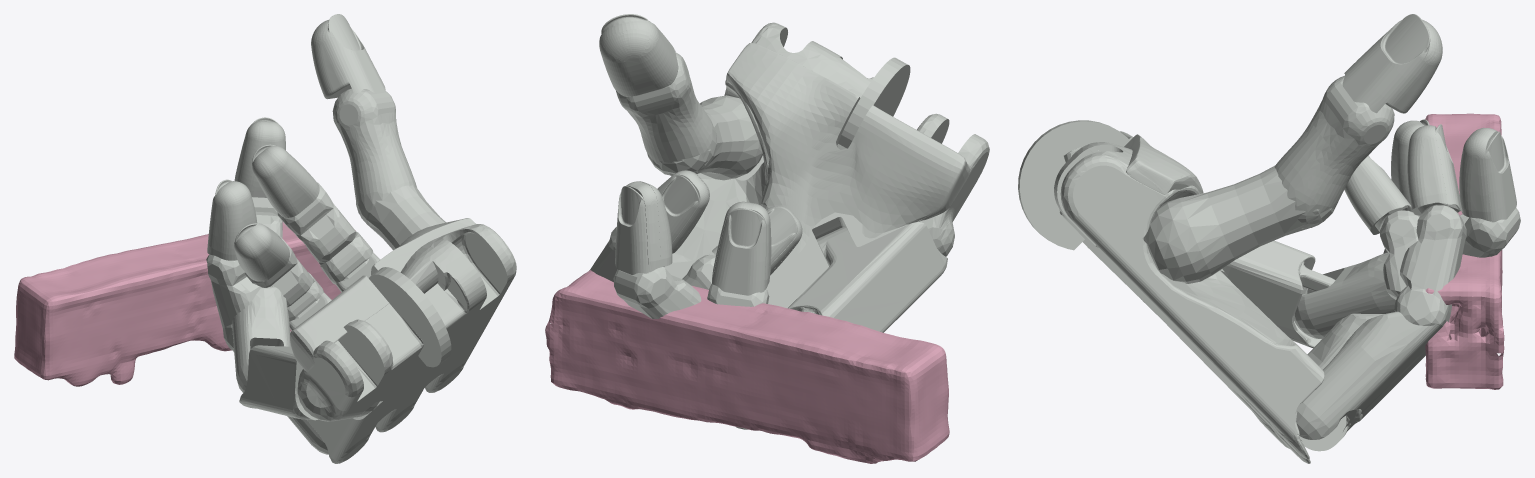
3 renders of one model, left to right at view 1: azimuth 30°, elevation 25°; view 2: azimuth 150°, elevation 25°; view 3: azimuth 270°, elevation 25°, orthographic. The views are drawn at different scales.
Parts seen in each view (by area): view 1: hand, world; view 2: hand, world; view 3: hand, world.
Part boxes in pixels (bbox=[...]): hand: bbox=[206, 14, 516, 463]; world: bbox=[14, 222, 355, 386]; hand: bbox=[589, 14, 989, 429]; world: bbox=[545, 270, 949, 463]; hand: bbox=[1018, 14, 1520, 463]; world: bbox=[1425, 113, 1504, 389].
Size of the model in its own units: 0.1472 by 0.1511 by 0.1507.
